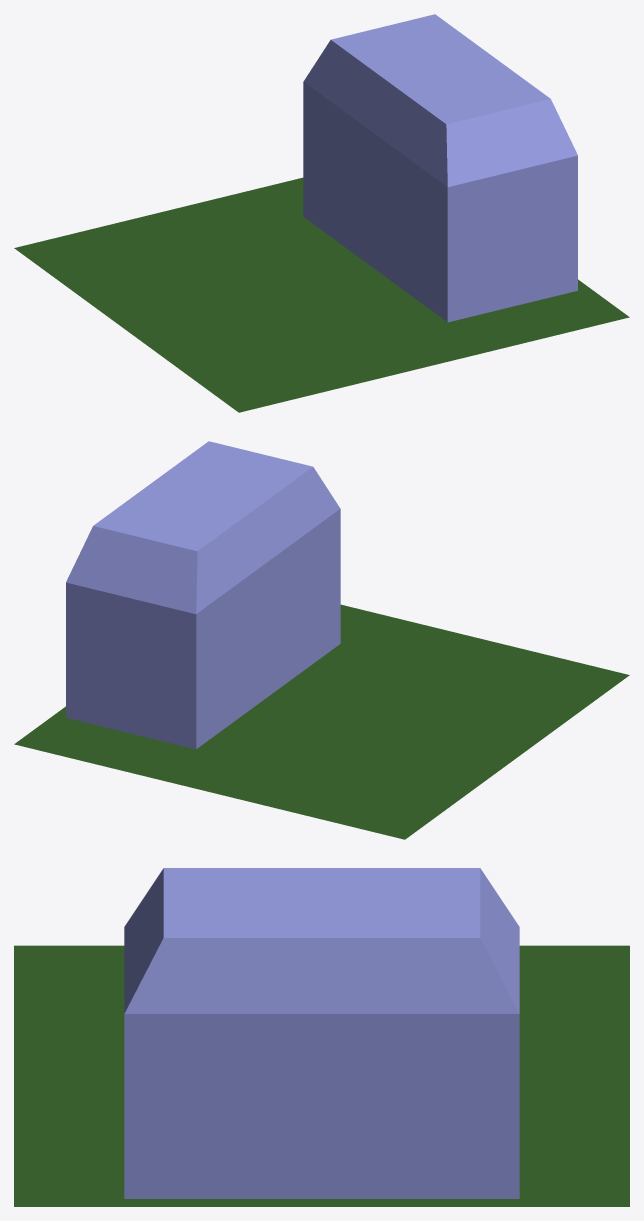
File: building.glb
3 renders of one model, top to bottom at view 1: azimuth 30°, elevation 25°; view 2: azimuth 150°, elevation 25°; view 3: azimuth 270°, elevation 25°, orthographic. The views are drawn at different scales.
Visible parts, largest first — view 1: House, Floor; view 2: House, Floor; view 3: House, Floor.
Part boxes in pixels (x1,y1,x2,y2): House: (303, 14, 577, 322); Floor: (14, 177, 629, 412); House: (66, 441, 340, 749); Floor: (14, 604, 629, 839); House: (124, 868, 519, 1198); Floor: (14, 945, 629, 1206).
Size of what is drawn, in the model's own units: 6 by 2.72 by 5.98.
